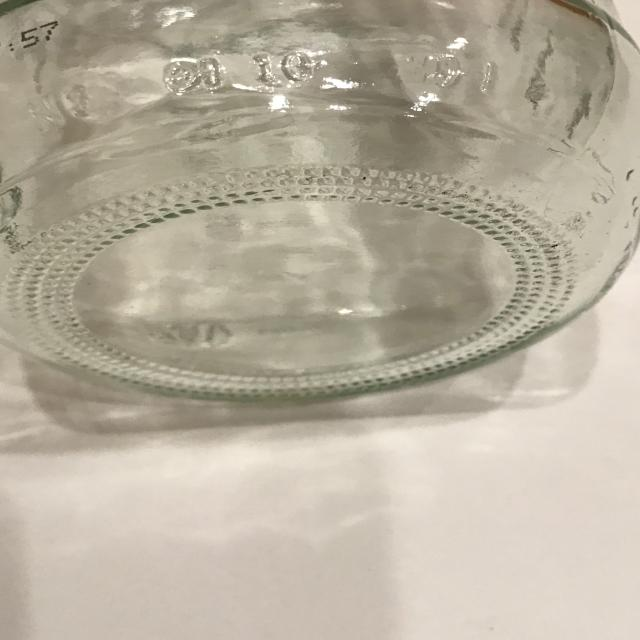glass: (0, 0, 640, 405)
